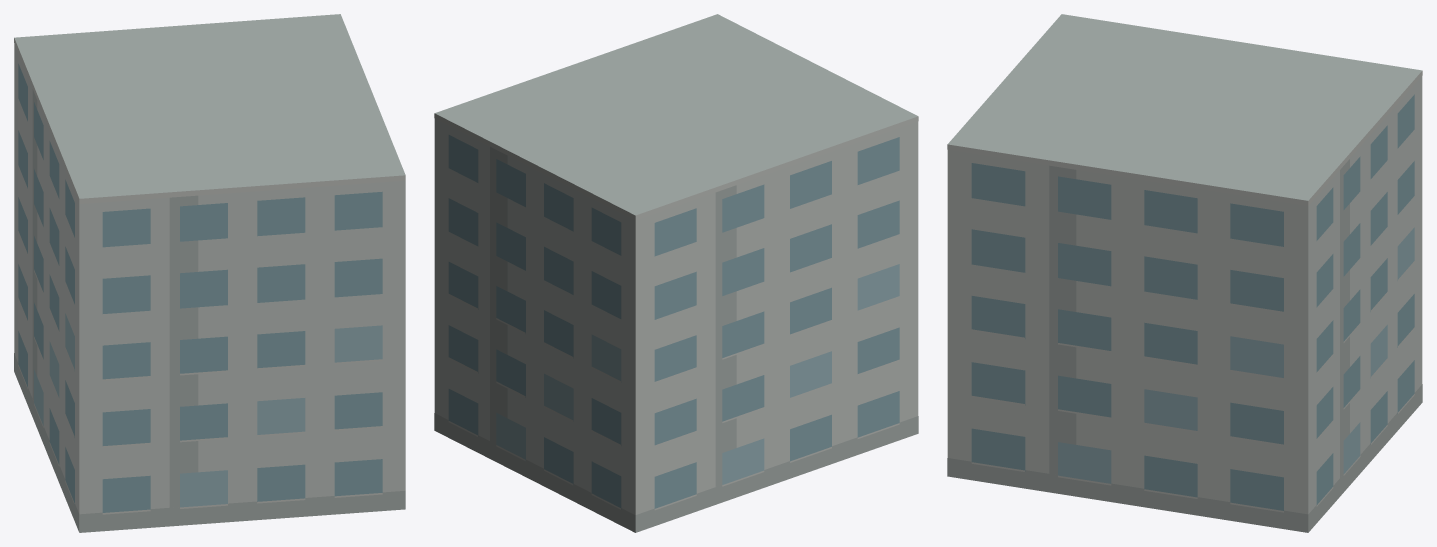
The model's file is residential-e70727ac-df67-44eb-a803-2d0044a7e310.glb.
3 views of the same model, side by side, from view 1: azimuth 30°, elevation 25°; view 2: azimuth 150°, elevation 25°; view 3: azimuth 270°, elevation 25° (orthographic). The views are drawn at different scales.
Parts seen in each view (by area): view 1: residential-e70727ac-df67-44eb-a803-2d0044a7e310.tmp; view 2: residential-e70727ac-df67-44eb-a803-2d0044a7e310.tmp; view 3: residential-e70727ac-df67-44eb-a803-2d0044a7e310.tmp.
Boxes of the visible parts, left/top/right/bottom form: residential-e70727ac-df67-44eb-a803-2d0044a7e310.tmp: left=14, top=14, right=405, bottom=532; residential-e70727ac-df67-44eb-a803-2d0044a7e310.tmp: left=434, top=14, right=918, bottom=532; residential-e70727ac-df67-44eb-a803-2d0044a7e310.tmp: left=947, top=14, right=1422, bottom=532.
Size of the model in its own units: 18.41 by 15.25 by 19.78.
